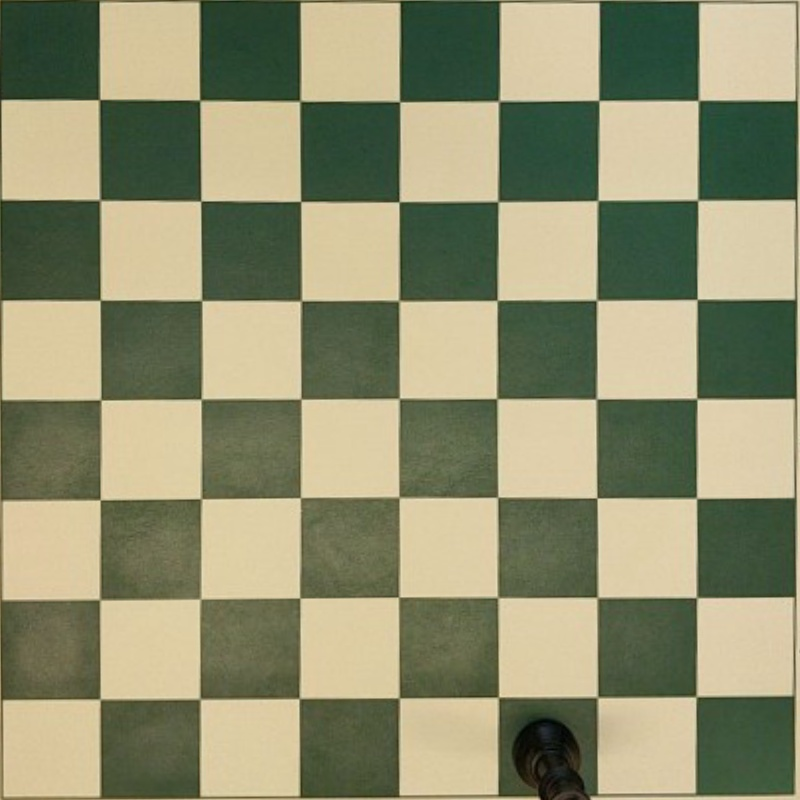black-king: (512, 716, 589, 800)
